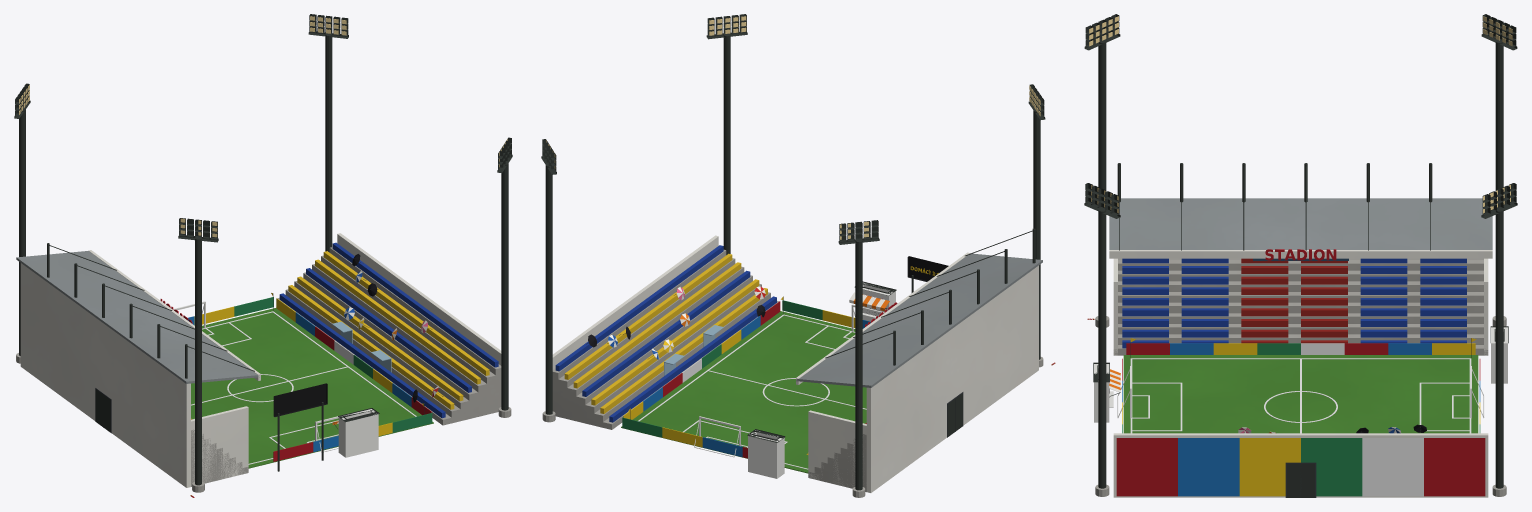
File: dum_20_stadion.glb
3 renders of one model, left to right at view 1: azimuth 30°, elevation 25°; view 2: azimuth 150°, elevation 25°; view 3: azimuth 270°, elevation 25°, orthographic. The views are drawn at different scales.
Parts seen in each view (by area): view 1: dum; view 2: dum; view 3: dum.
Boxes of the visible parts, box(x1,y1,x2,y2) form: dum: box(14, 14, 512, 497); dum: box(541, 14, 1055, 497); dum: box(1084, 14, 1517, 497).
Bounding box in the file's own units: 27.74 × 21.36 × 27.58.
1 material, 1 textured.
